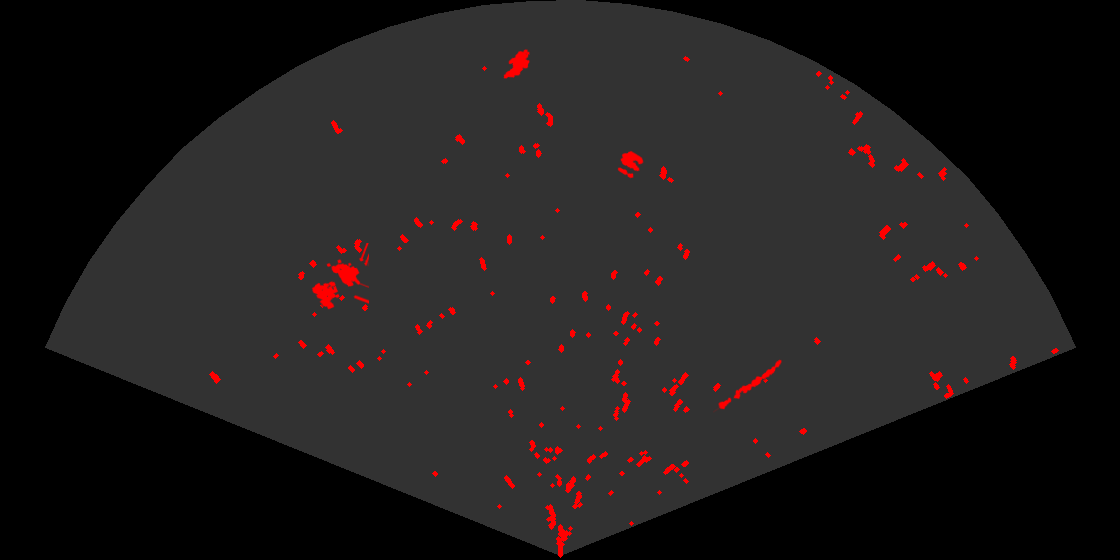AUV: (502, 48, 531, 80)
ball: (616, 149, 645, 180)
cage: (310, 243, 369, 311)
chain: (713, 358, 783, 414)
